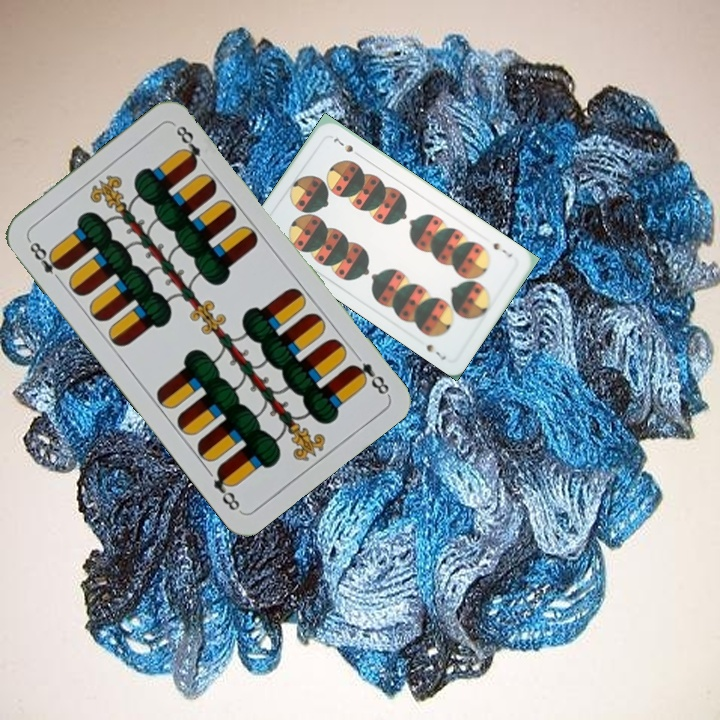E8: (24, 235, 68, 286), (346, 359, 392, 398)
S7: (489, 238, 515, 260)
